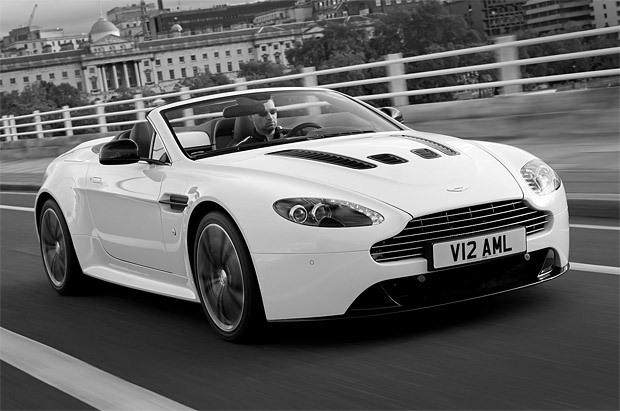car: (35, 88, 573, 339)
